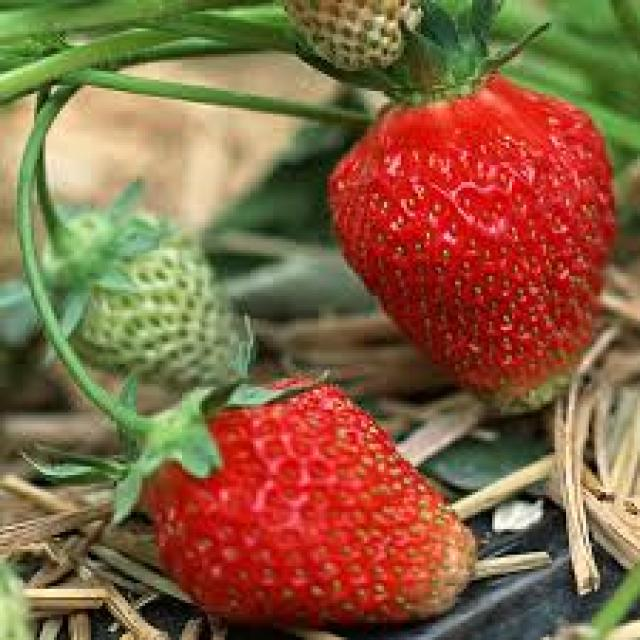strawberry: (329, 69, 612, 412), (136, 383, 488, 614)
